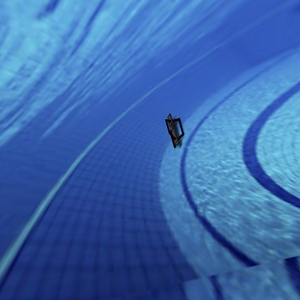submarine: (146, 97, 199, 157)
